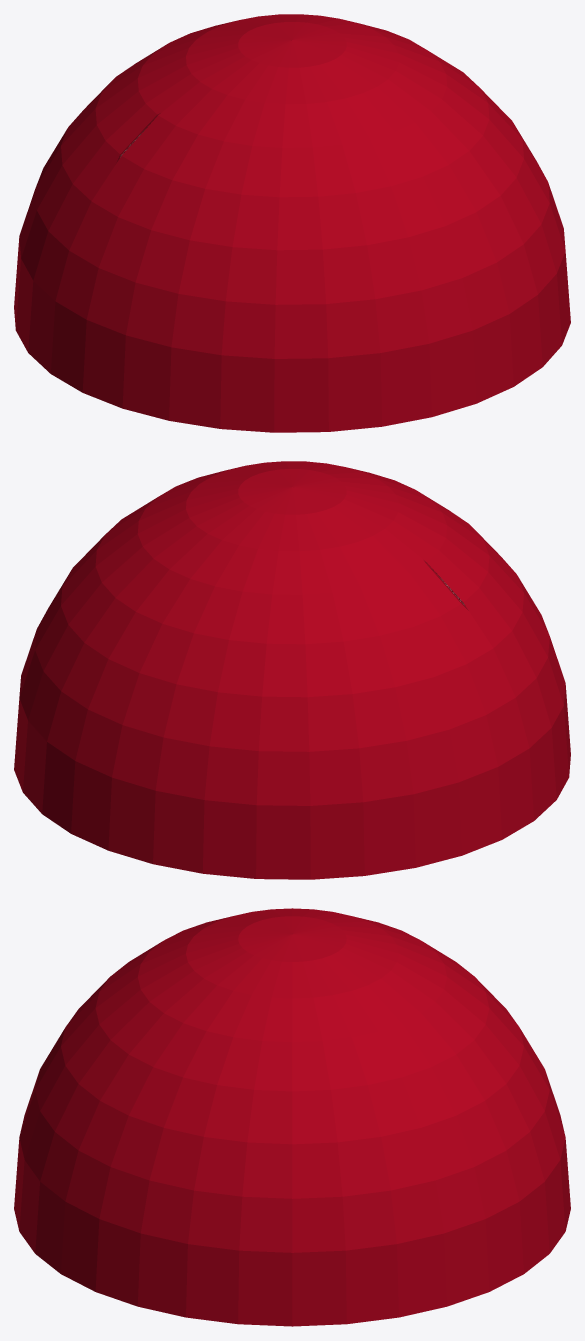
File: enemyFlagDome.obj
The picture shows the model from 3 angles, top to bottom: view 1: azimuth 30°, elevation 25°; view 2: azimuth 150°, elevation 25°; view 3: azimuth 270°, elevation 25°; orthographic projection.
Visible parts, largest first — view 1: 球; view 2: 球; view 3: 球.
Boxes of the visible parts, <box> form: 球: <box>14,14,570,432</box>; 球: <box>14,461,570,879</box>; 球: <box>14,908,570,1326</box>.
Bounding box in the file's own units: 13.97 × 7.6 × 13.97.
1 material, 1 textured.
